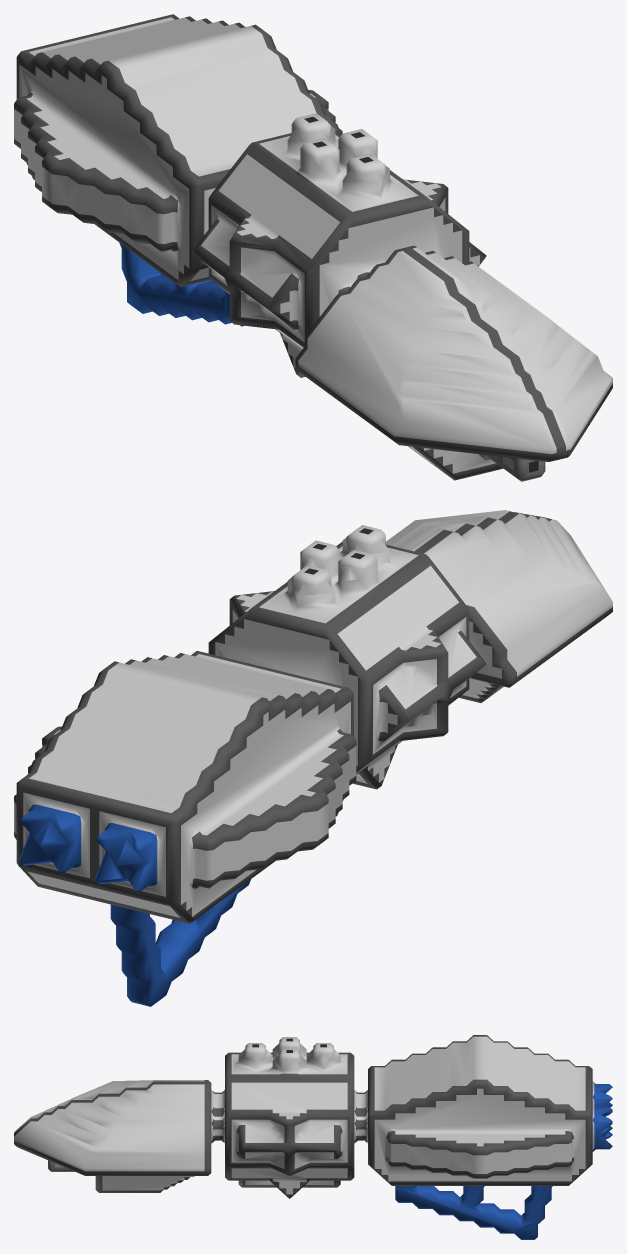
The model's file is diadochi-2-aipaloovik-class.obj.
The picture shows the model from 3 angles, top to bottom: view 1: azimuth 30°, elevation 25°; view 2: azimuth 150°, elevation 25°; view 3: azimuth 270°, elevation 25°; orthographic projection. The views are drawn at different scales.
Size of the model in its own units: 29 by 31 by 88.
1 material, 1 textured.
